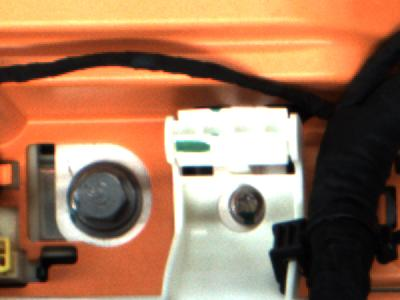nut_b: (58, 150, 151, 243)
